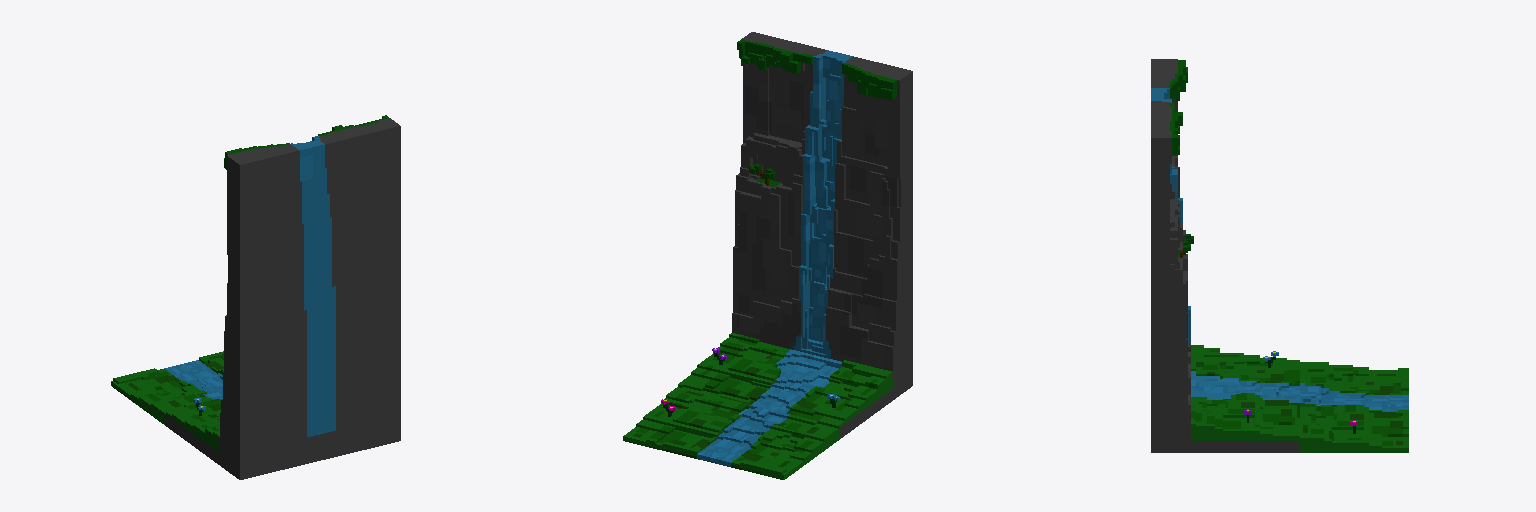
3 views of the same model, side by side, from view 1: azimuth 30°, elevation 25°; view 2: azimuth 150°, elevation 25°; view 3: azimuth 270°, elevation 25° (orthographic).
Parts seen in each view (by area): view 1: object 1; view 2: object 1; view 3: object 1.
Boxes of the visible parts, x1,y1,x2,y2 form: object 1: [111, 115, 400, 479]; object 1: [623, 32, 912, 479]; object 1: [1151, 59, 1408, 452].
Bounding box in the file's own units: 7 × 13.1 × 9.7.
1 materials, 1 textured.